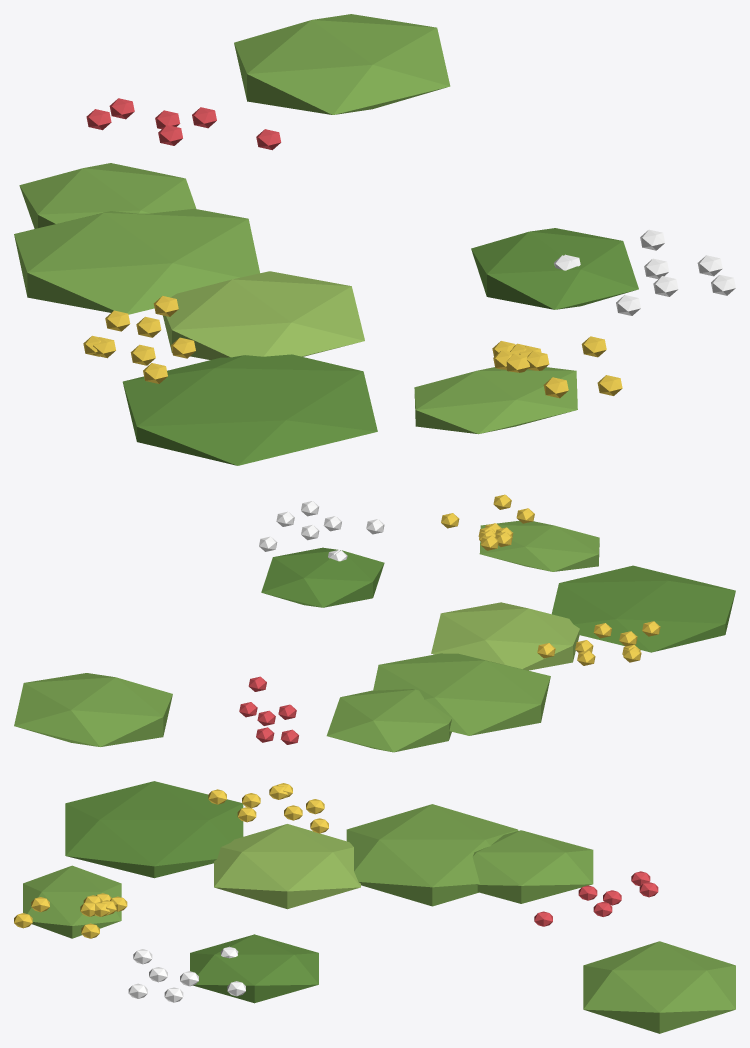
Rendered from Kir_cimen_cicekli_4_Hafif.fbx.
The picture shows the model from 3 angles, top to bottom: view 1: azimuth 30°, elevation 25°; view 2: azimuth 150°, elevation 25°; view 3: azimuth 270°, elevation 25°; orthographic projection. The views are drawn at different scales.
Visible parts, largest first — view 1: Kir_cimen_cicekli_4_Hafif; view 2: Kir_cimen_cicekli_4_Hafif; view 3: Kir_cimen_cicekli_4_Hafif.
Part boxes in pixels (box(x1,y1,x2,y2)): Kir_cimen_cicekli_4_Hafif: box(14, 14, 735, 465); Kir_cimen_cicekli_4_Hafif: box(14, 494, 735, 752); Kir_cimen_cicekli_4_Hafif: box(14, 781, 735, 1033).
Size of the model in its own units: 14.21 by 1 by 18.35.
